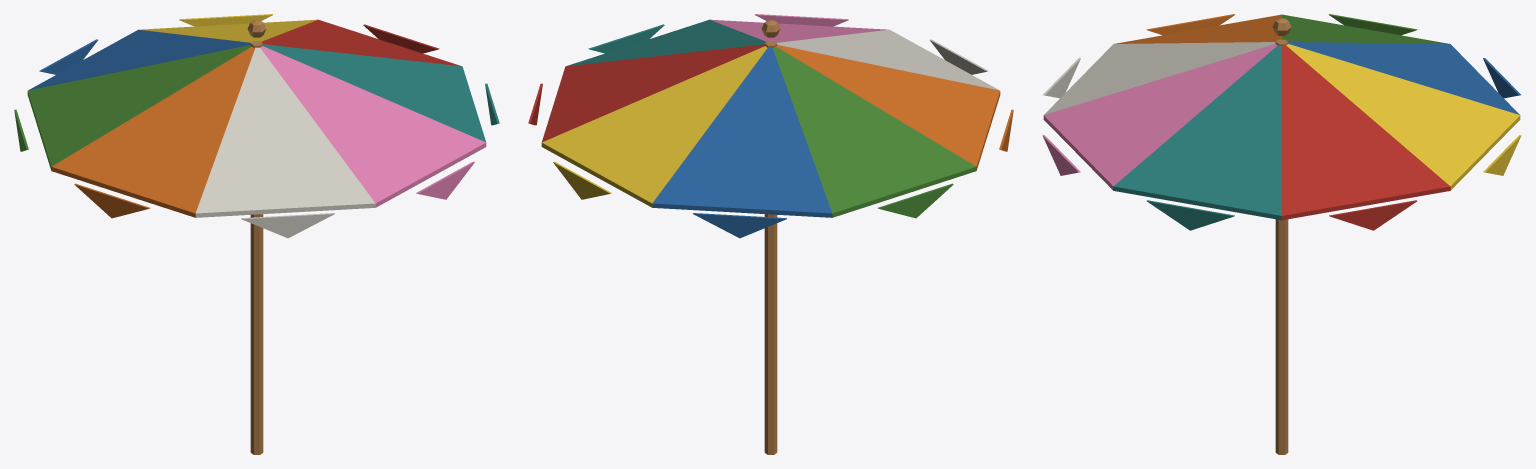
Rendered from 138_parasol_ouvert.fbx.
3 views of the same model, side by side, from view 1: azimuth 30°, elevation 25°; view 2: azimuth 150°, elevation 25°; view 3: azimuth 270°, elevation 25° (orthographic).
Parts seen in each view (by area): view 1: Toile, Mat; view 2: Toile, Mat; view 3: Toile, Mat.
Boxes of the visible parts, box(x1,y1,x2,y2) form: Toile: box(14, 14, 499, 238); Mat: box(247, 20, 266, 454); Toile: box(528, 14, 1013, 238); Mat: box(761, 20, 780, 454); Toile: box(1042, 14, 1521, 230); Mat: box(1272, 18, 1291, 454).
Bounding box in the file's own units: 1.68 × 1.68 × 1.68.
Materials: 1 (1 with a texture image).
